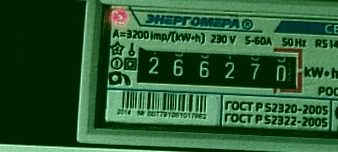0: (273, 63, 288, 83)
2: (146, 55, 160, 76), (223, 60, 237, 81)
6: (171, 57, 184, 79), (197, 59, 211, 79)
7: (249, 62, 260, 81)
screen: (124, 37, 310, 100)
